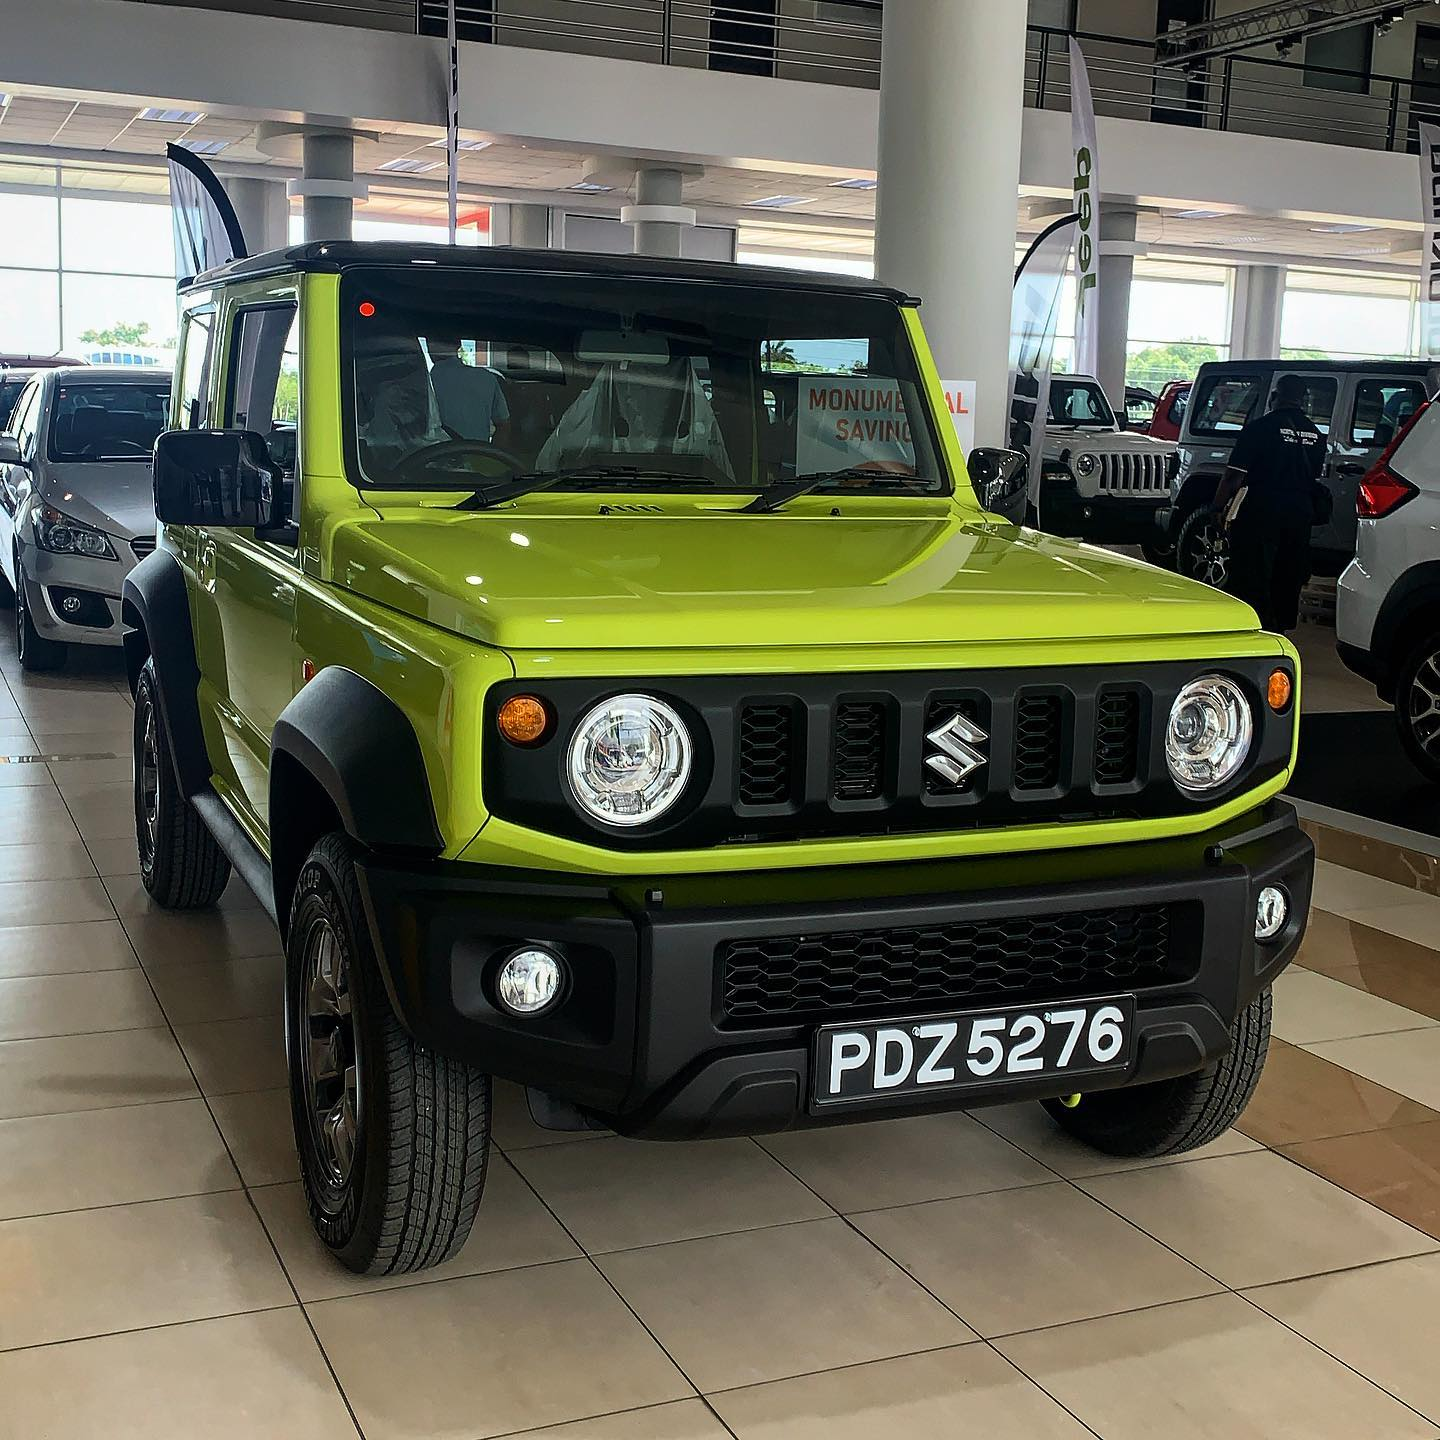License-Plate: (815, 1029, 1129, 1098)
